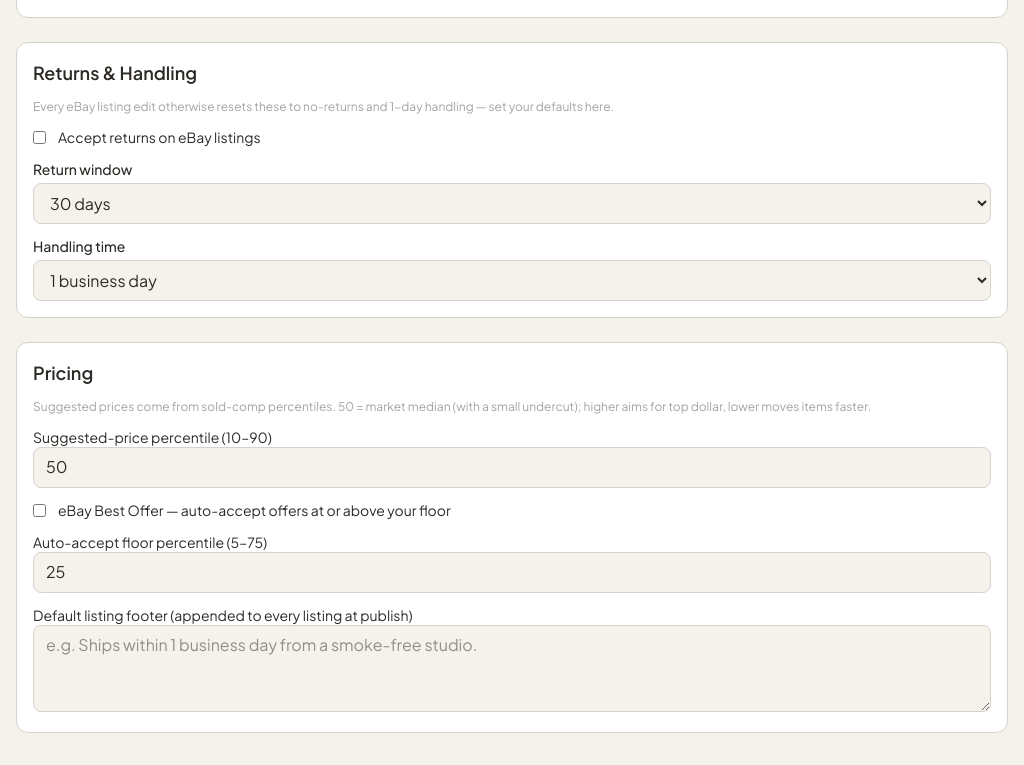
Test: Seller profile Pricing section › reverts an out-of-range percentile on blur instead of silently keeping it on screen
(page scrolled)
Replace the text in the number field labelled "Suggested-price percentile (10–90)" with "95": (512, 468) [33,447,991,488]
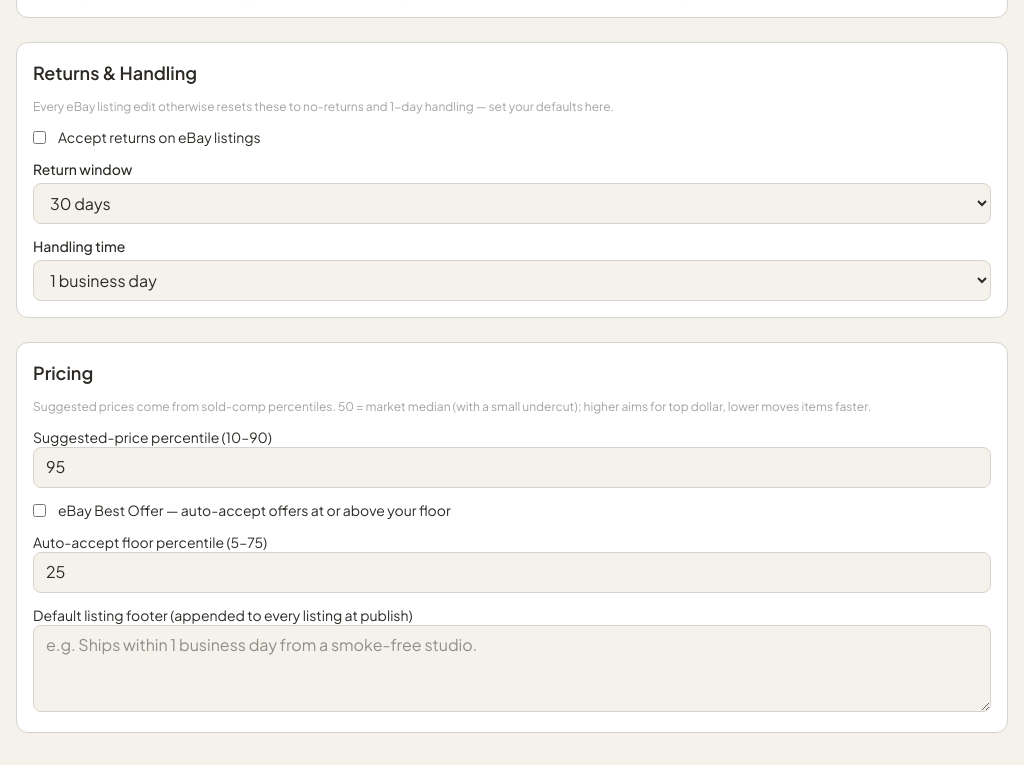
Leave the number field labelled "Suggested-price percentile (10–90)", box [33,447,991,488]
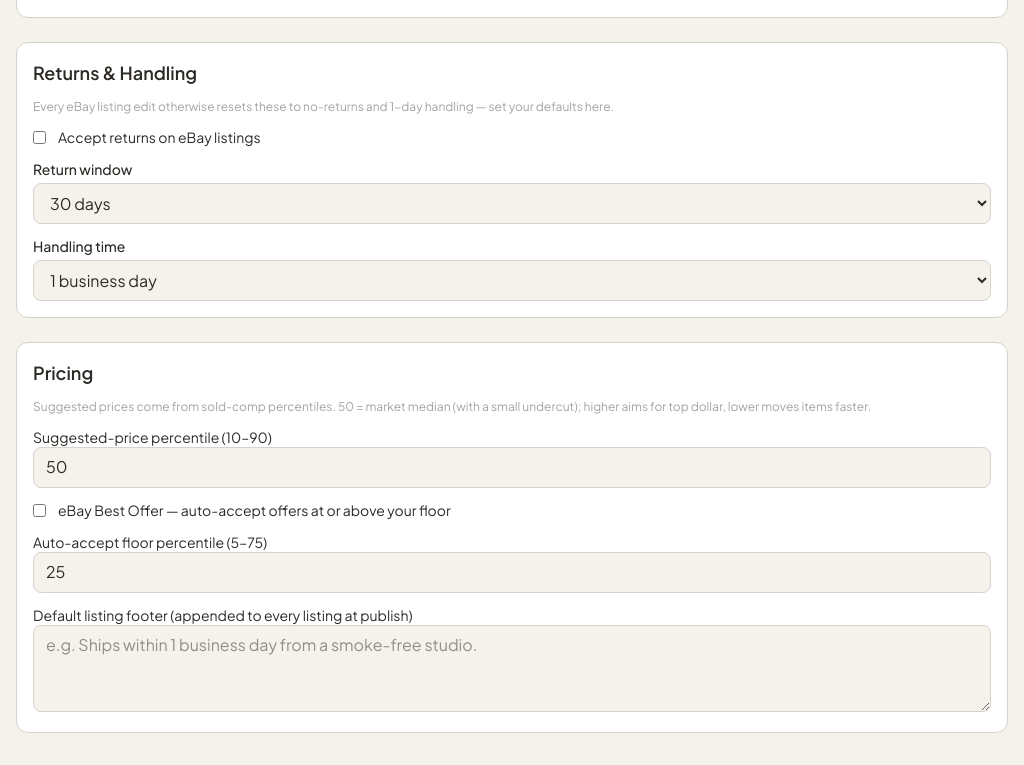
Now the number field labelled "Suggested-price percentile (10–90)" holds "50", box [33,447,991,488]
